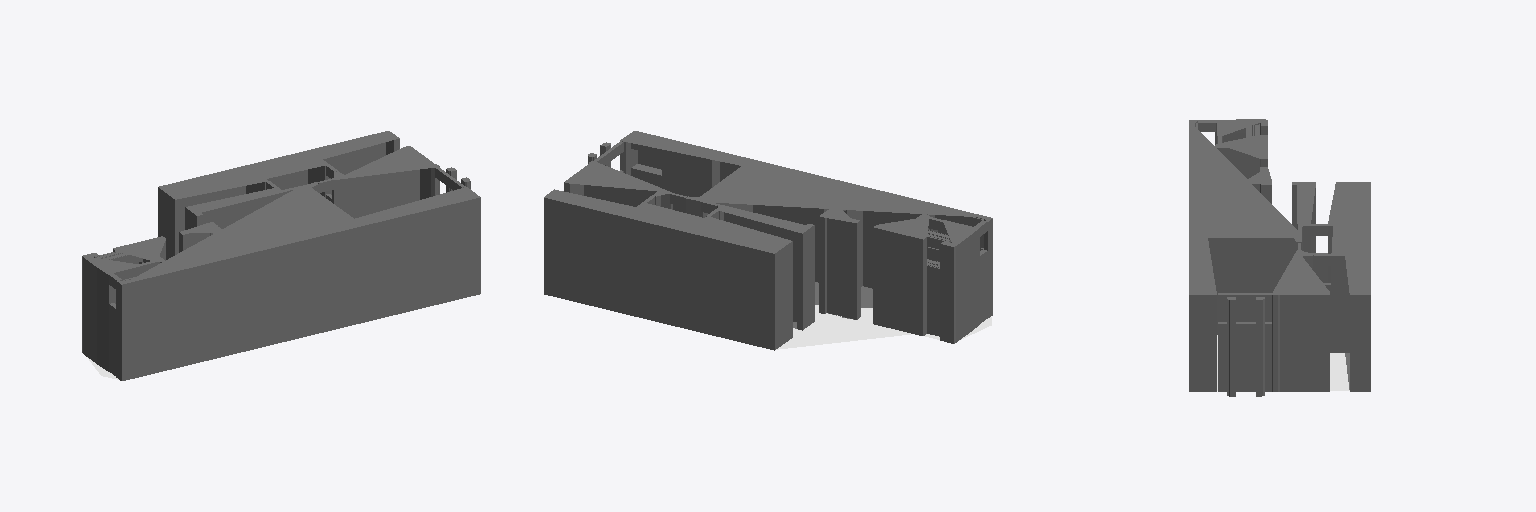
Rendered from dc934339-c0b1-4eb6-bbc9-3e15290f866b.obj.
3 renders of one model, left to right at view 1: azimuth 30°, elevation 25°; view 2: azimuth 150°, elevation 25°; view 3: azimuth 270°, elevation 25°, orthographic.
Parts seen in each view (by area): view 1: Box8Wall128, VertWalls17, VertWalls7, Box2Wall32, VertWalls5, Box9Wall159, Box9Wall160, Box4Wall69, Box3Wall60, Box3Wall65, VertWalls9, VertWalls15 (+2 smaller); view 2: Box3Wall64, VertWalls17, Box7Wall114, VertWalls7, Floor, Box8Wall134, Box3Wall65, VertWalls5, Box9Wall179, Box9Wall159, Box5Wall102, Box8Wall152 (+13 smaller); view 3: VertWalls17, Box2Wall39, Box8Wall137, VertWalls7, Box8Wall129, Box24Wall98, Box3Wall63, Box3Wall59, VertWalls5, VertWalls9, VertWalls15, Floor (+2 smaller).
Part boxes in pixels (x1,y1,x2,y2): Box8Wall128: (122,197,480,380); VertWalls17: (117,182,479,284); VertWalls7: (159,131,399,199); Box2Wall32: (334,170,419,218); VertWalls5: (332,146,438,179); Box9Wall159: (83,257,96,363); Box9Wall160: (97,268,108,371); Box4Wall69: (202,192,286,228); Box3Wall60: (323,142,385,194); Box3Wall65: (158,187,174,259); VertWalls9: (186,187,286,215); VertWalls15: (113,236,165,261); Box3Wall64: (544,198,774,350); VertWalls17: (620,131,992,221); Box7Wall114: (873,227,922,335); VertWalls7: (544,189,791,253); Floor: (776,305,991,349); Box8Wall134: (662,150,711,212); Box3Wall65: (775,241,792,349); VertWalls5: (565,161,671,196); Box9Wall179: (940,244,953,343); Box9Wall159: (956,236,969,342); Box5Wall102: (843,221,856,319); Box8Wall152: (863,211,930,288); VertWalls17: (1189,120,1301,294); Box2Wall39: (1280,295,1329,391); Box8Wall137: (1208,238,1296,334); VertWalls7: (1328,182,1370,294); Box8Wall129: (1189,295,1216,391); Box24Wall98: (1218,324,1271,391); Box3Wall63: (1350,295,1370,391); Box3Wall59: (1331,256,1349,352); VertWalls5: (1272,250,1329,294); VertWalls9: (1292,182,1315,226); VertWalls15: (1215,135,1267,158); Floor: (1217,335,1349,390).
Bounding box in the file's own units: 10.23 × 2.5 × 4.28.